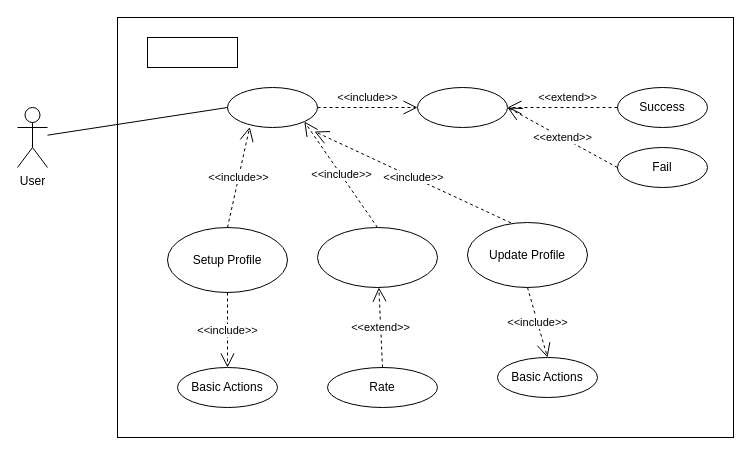
This 751x455 diagram has some shape labels left out. The shapes that lost their labels are listed below. From the top down, each one's box as (x1, y1, x2, y2) in pixels, then its label:
(146, 36, 238, 68): Application
(226, 86, 318, 128): Log in
(416, 86, 508, 128): Verify password
(316, 226, 438, 288): View Recommendations
